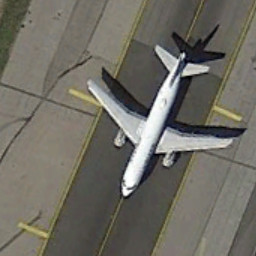Airplane: (81, 39, 238, 207)
